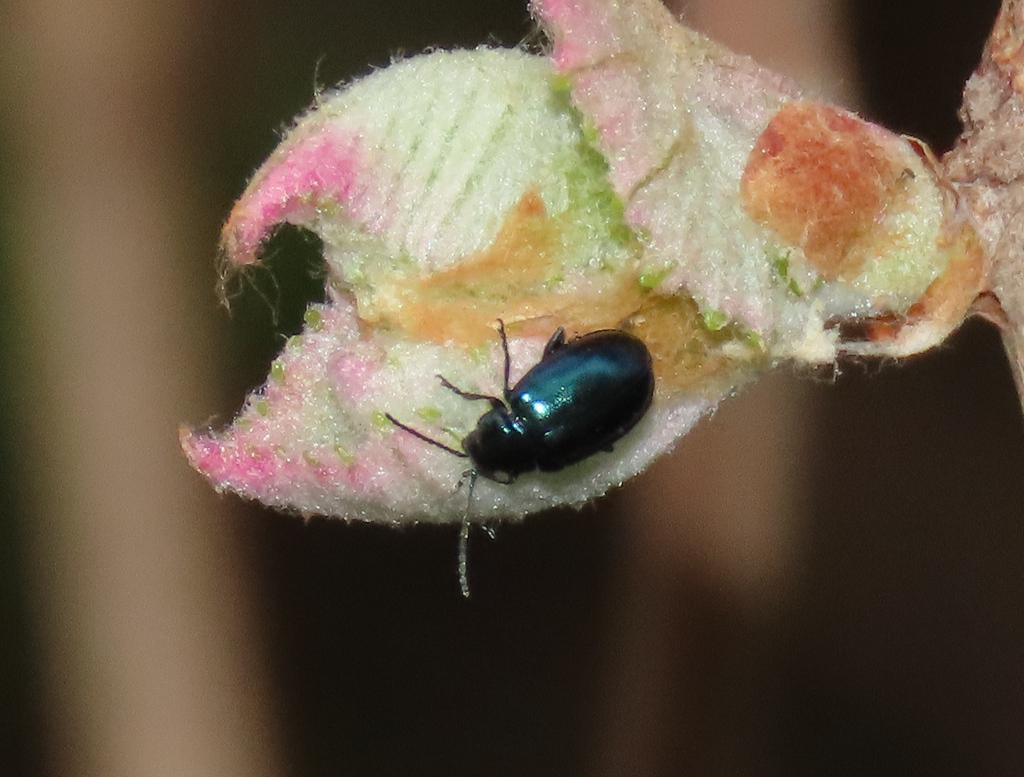flea_beetle: (348, 267, 718, 616)
